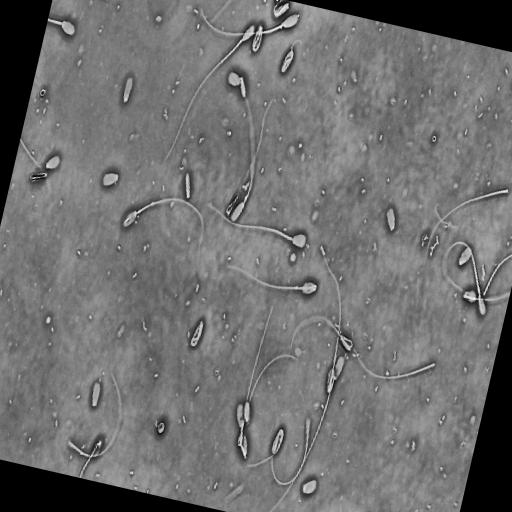coiled-tail: (290, 317, 353, 349), (248, 430, 284, 468), (226, 69, 247, 102), (236, 401, 245, 450), (251, 23, 264, 55), (190, 321, 203, 347), (281, 47, 294, 72), (227, 198, 237, 215), (240, 76, 245, 98), (344, 339, 351, 346)
dirt-particles: (156, 419, 167, 435)
folded-tail: (229, 265, 315, 290), (325, 257, 341, 390)
loose-head: (122, 74, 135, 105), (457, 244, 473, 268), (100, 170, 121, 188), (301, 477, 319, 497), (385, 205, 397, 234), (91, 379, 102, 409), (45, 153, 61, 171), (184, 171, 191, 200), (244, 401, 250, 423)
loose-tail: (424, 185, 511, 257), (66, 369, 124, 461), (351, 344, 438, 385), (270, 417, 312, 490), (464, 294, 510, 301)
normal: (162, 22, 257, 164), (266, 354, 345, 512), (238, 354, 299, 460), (119, 197, 204, 262), (203, 203, 310, 251), (229, 69, 256, 223), (441, 240, 488, 320), (225, 263, 319, 299), (199, 5, 300, 36), (320, 252, 342, 394), (288, 315, 354, 354), (461, 288, 511, 308), (189, 318, 205, 349), (270, 425, 284, 457), (280, 45, 295, 74), (225, 192, 240, 217), (253, 28, 263, 50)
proximal-droplet: (477, 287, 481, 294)
